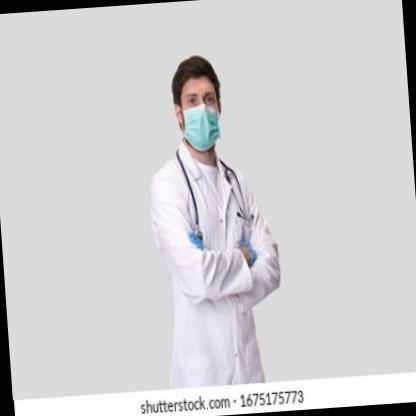Gloves: (244, 242, 258, 266), (190, 233, 206, 250)
